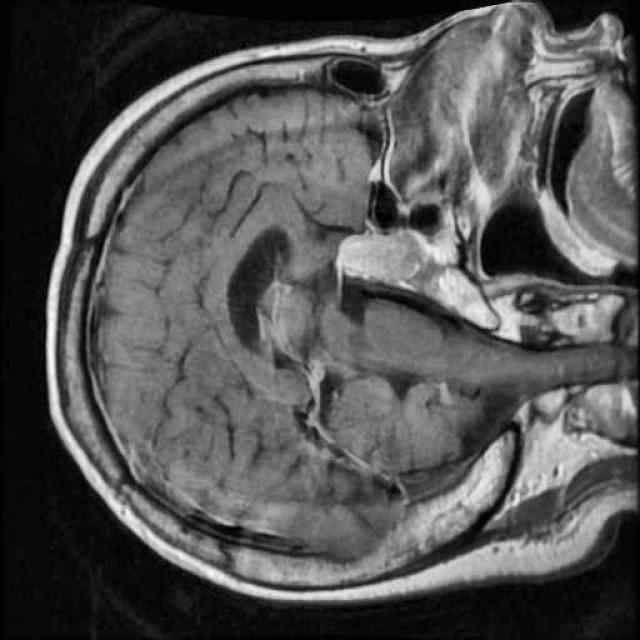Tumor: (324, 221, 448, 306)
